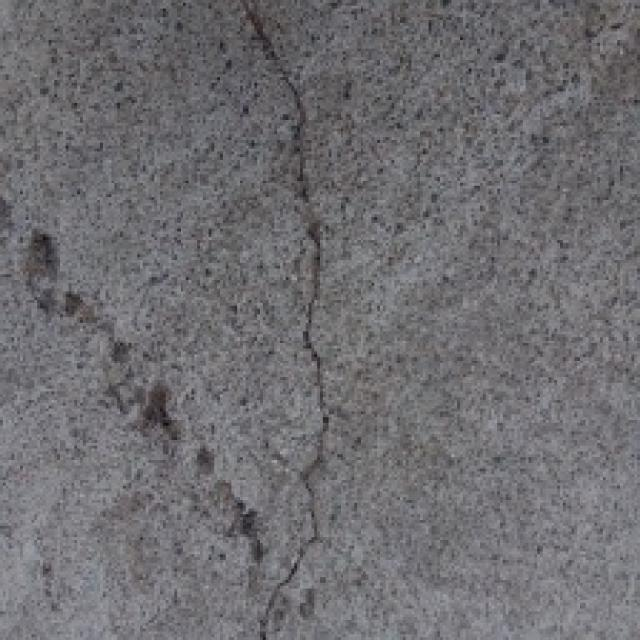crack: (202, 0, 350, 640)
